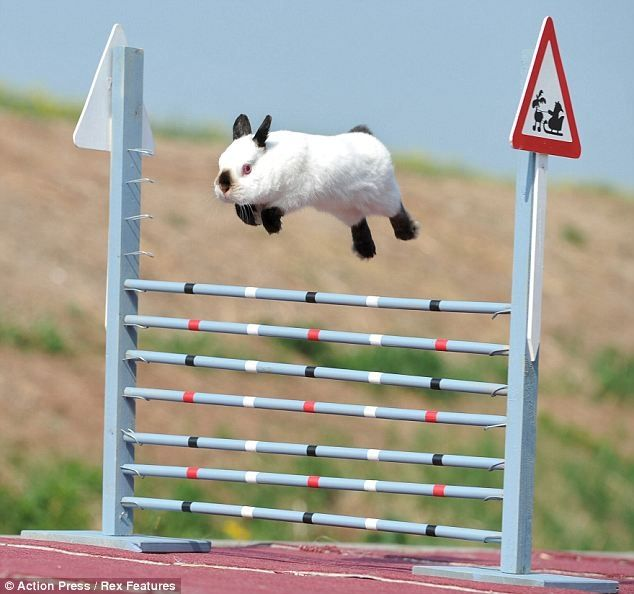bunny: (199, 100, 433, 274)
